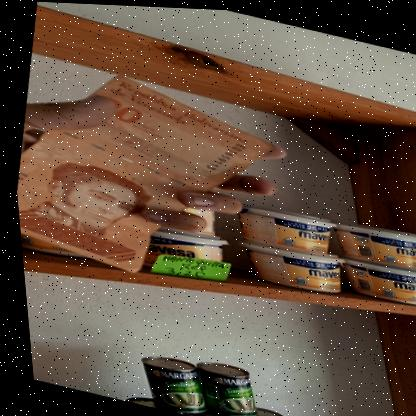twenty-front-vef: (4, 52, 290, 301)
